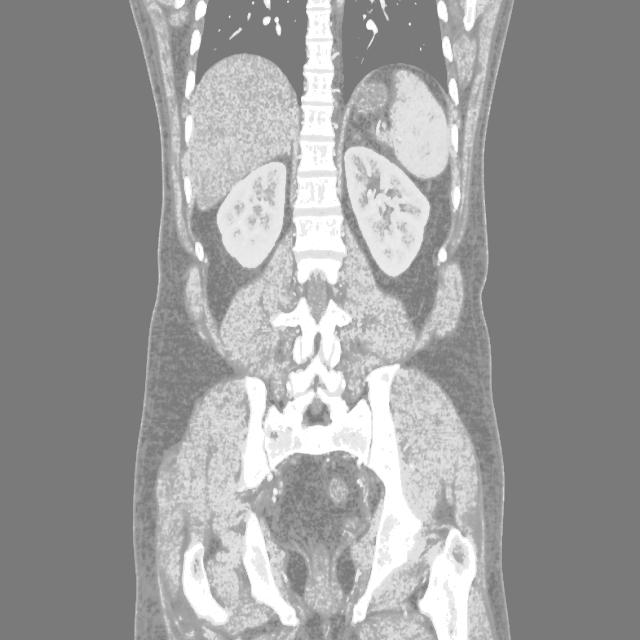NORMAL: (116, 56, 540, 512)
